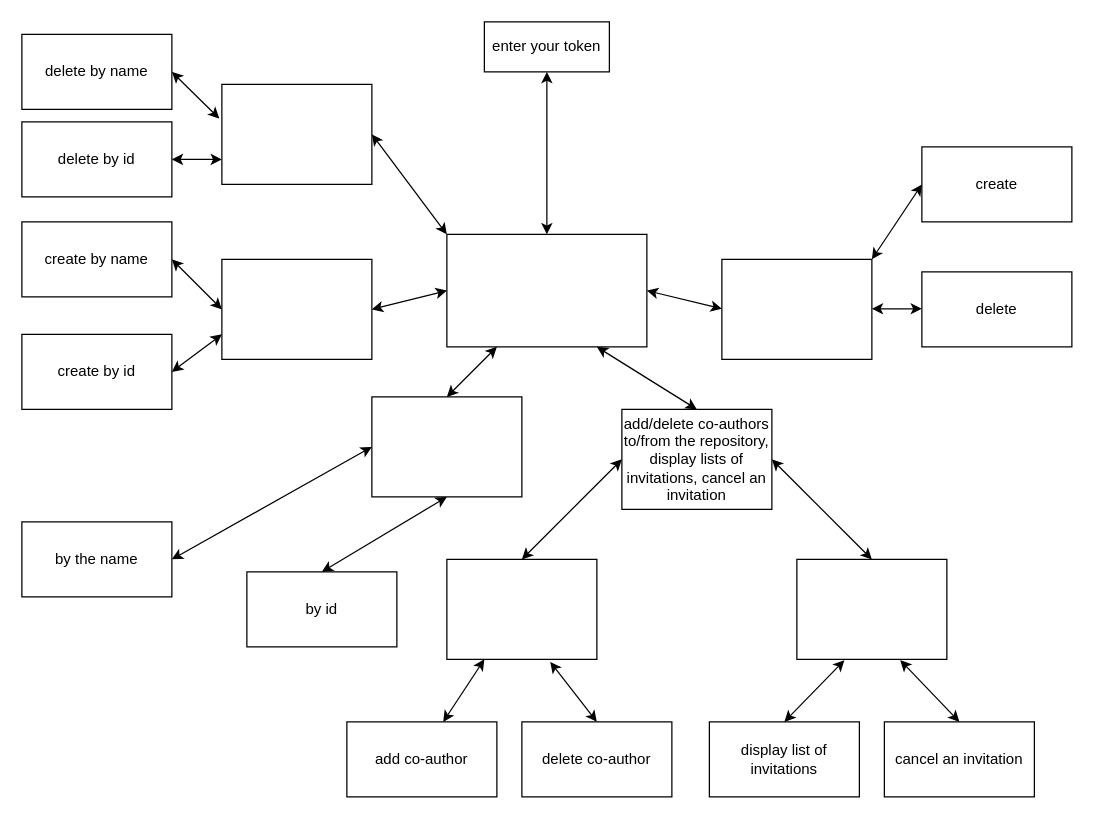
Some shapes in this 1094 by 819 pixel diagram are drawn without their labels. Each missing label, with the centre of its shape:
create repository named /id: point 296,308
create/delete branch: point 796,308
create/delete co-authors to/from repository: point 521,608
delete repository named/id: point 296,133
display/cancel invitations: point 871,608
find repository named or id and return basic information: point 446,446
main directions selection menu: point 546,290
